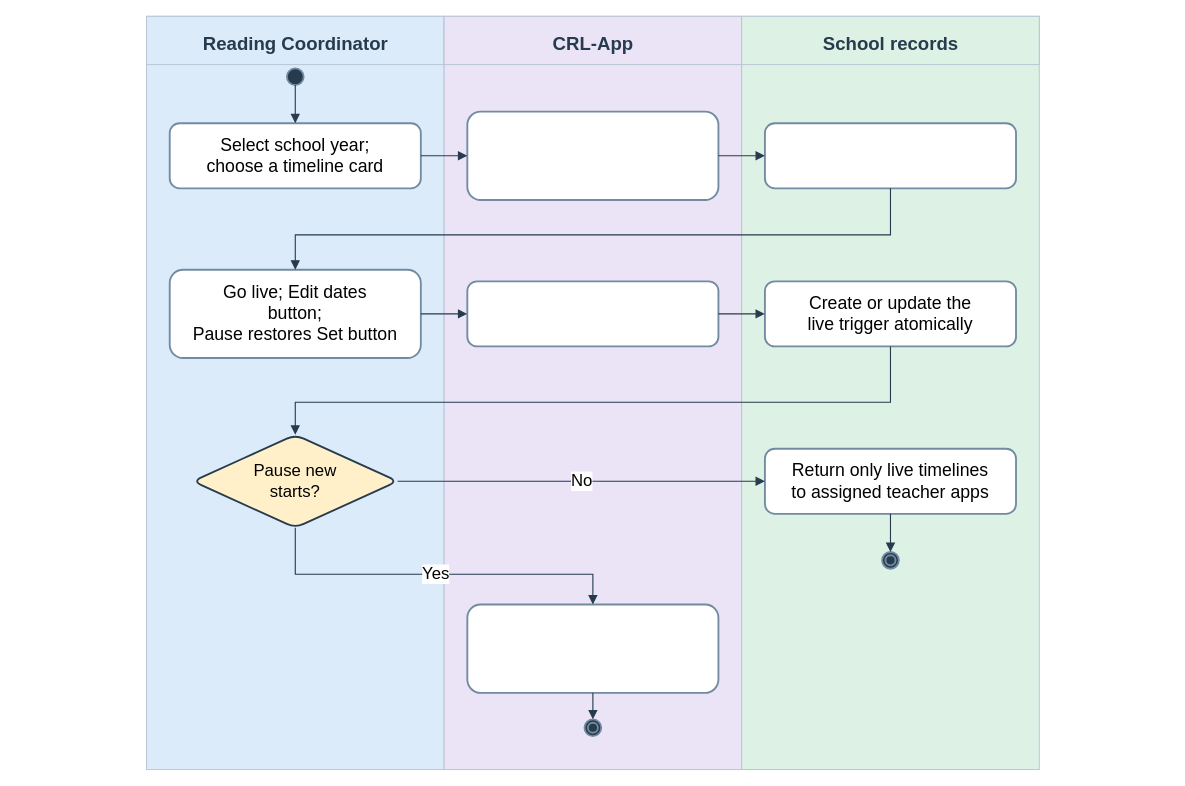
The diagram is 1185 pixels wide and 786 high, and some of its shapes have lost their labels. The centre of each missing label's shape, as x and y in pixels:
Pause future starts; retain already-running attempts: the point at 592,648
Read current activation and published version: the point at 890,155
Validate current version; protect concurrent changes: the point at 592,313
Verify school, year and published timeline contents: the point at 592,155
